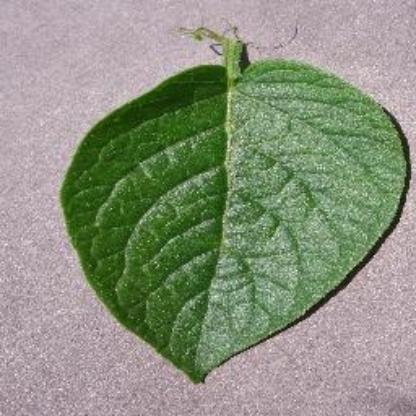Healthy-plant: (58, 32, 410, 384)
